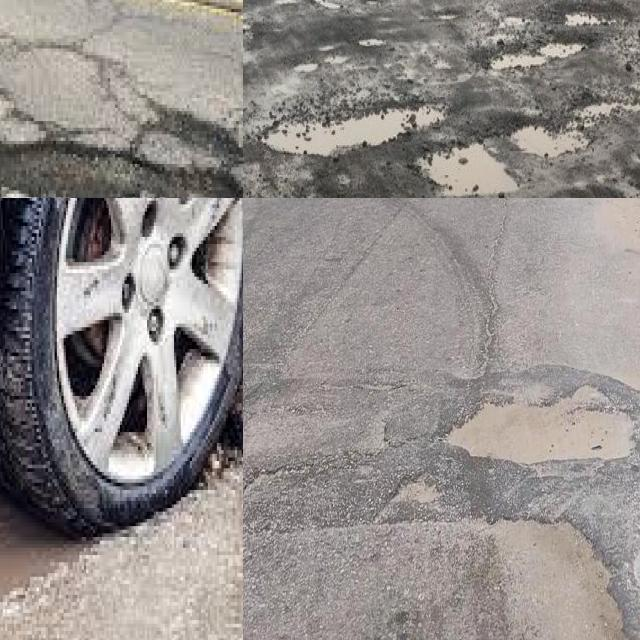Pothole: (299, 15, 613, 156), (475, 506, 632, 640), (439, 380, 636, 470), (0, 151, 209, 198), (428, 144, 517, 198), (511, 118, 591, 159), (391, 473, 445, 505)
